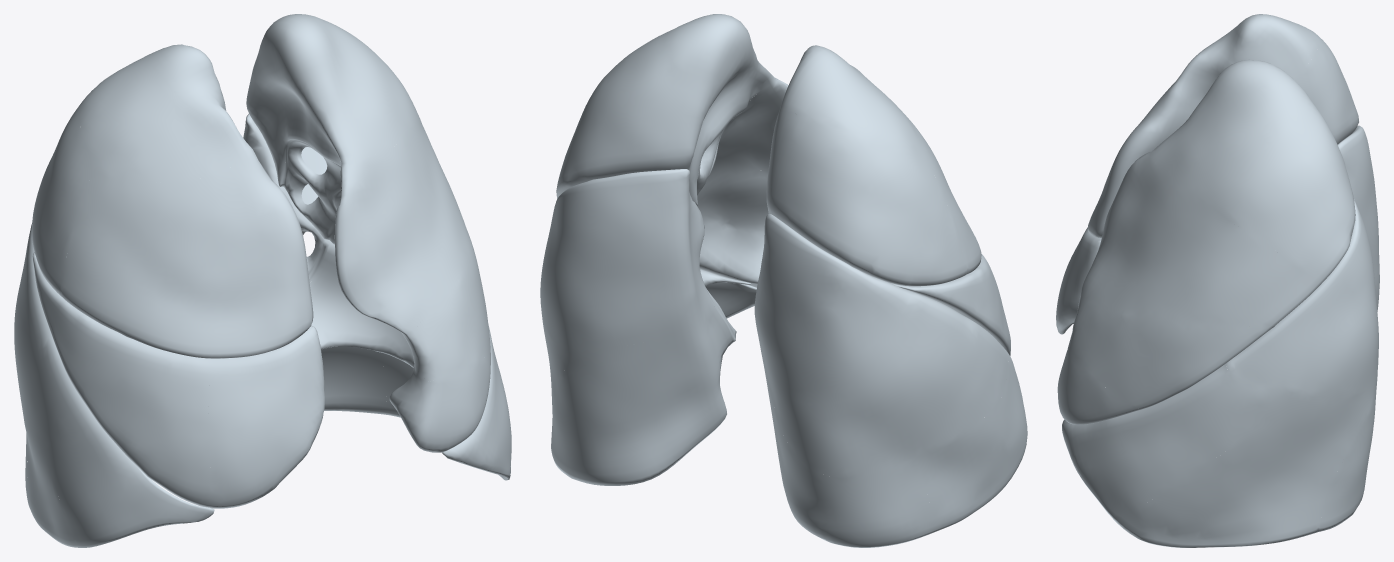
File: poumons.glb
3 renders of one model, left to right at view 1: azimuth 30°, elevation 25°; view 2: azimuth 150°, elevation 25°; view 3: azimuth 270°, elevation 25°, orthographic. The views are drawn at different scales.
Visible parts, largest first — view 1: poumons; view 2: poumons; view 3: poumons.
Part boxes in pixels (x1,y1,x2,y2): poumons: (14, 14, 511, 547); poumons: (540, 14, 1027, 547); poumons: (1056, 14, 1379, 547).
Size of the model in its own units: 0.261 by 0.264 by 0.1857.
